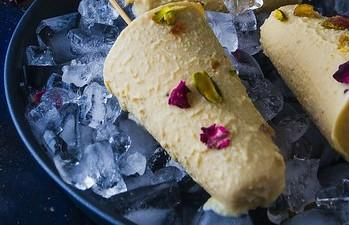Kulfi: (101, 0, 290, 214), (261, 5, 349, 158)
